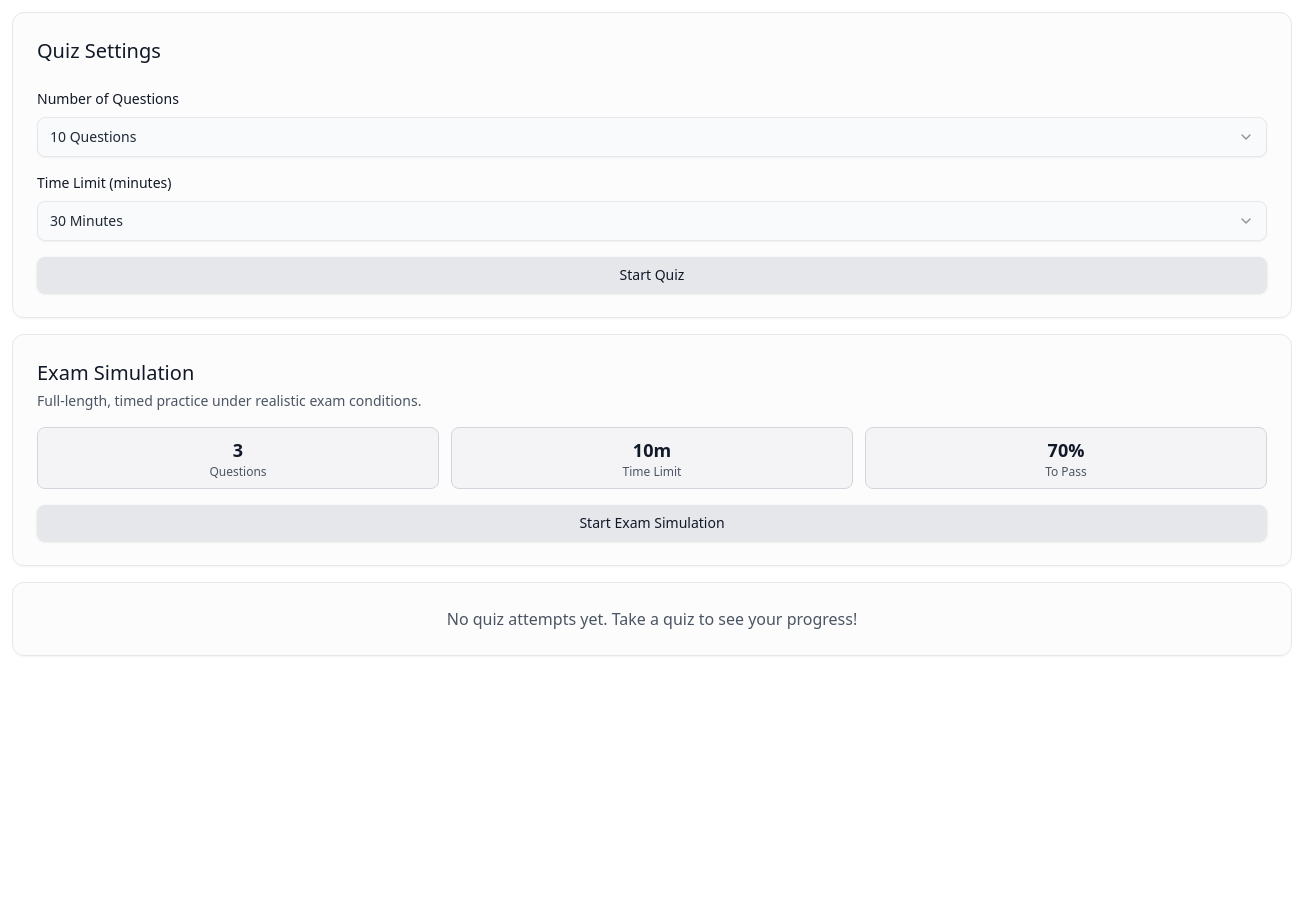
Test case: B8: remaining time is computed from a deadline › catches up on return to the tab after 5 minutes with no ticks
The image size is (1304, 912).
Click the button "Start Quiz" at (652, 275), box [37,257,1267,293]
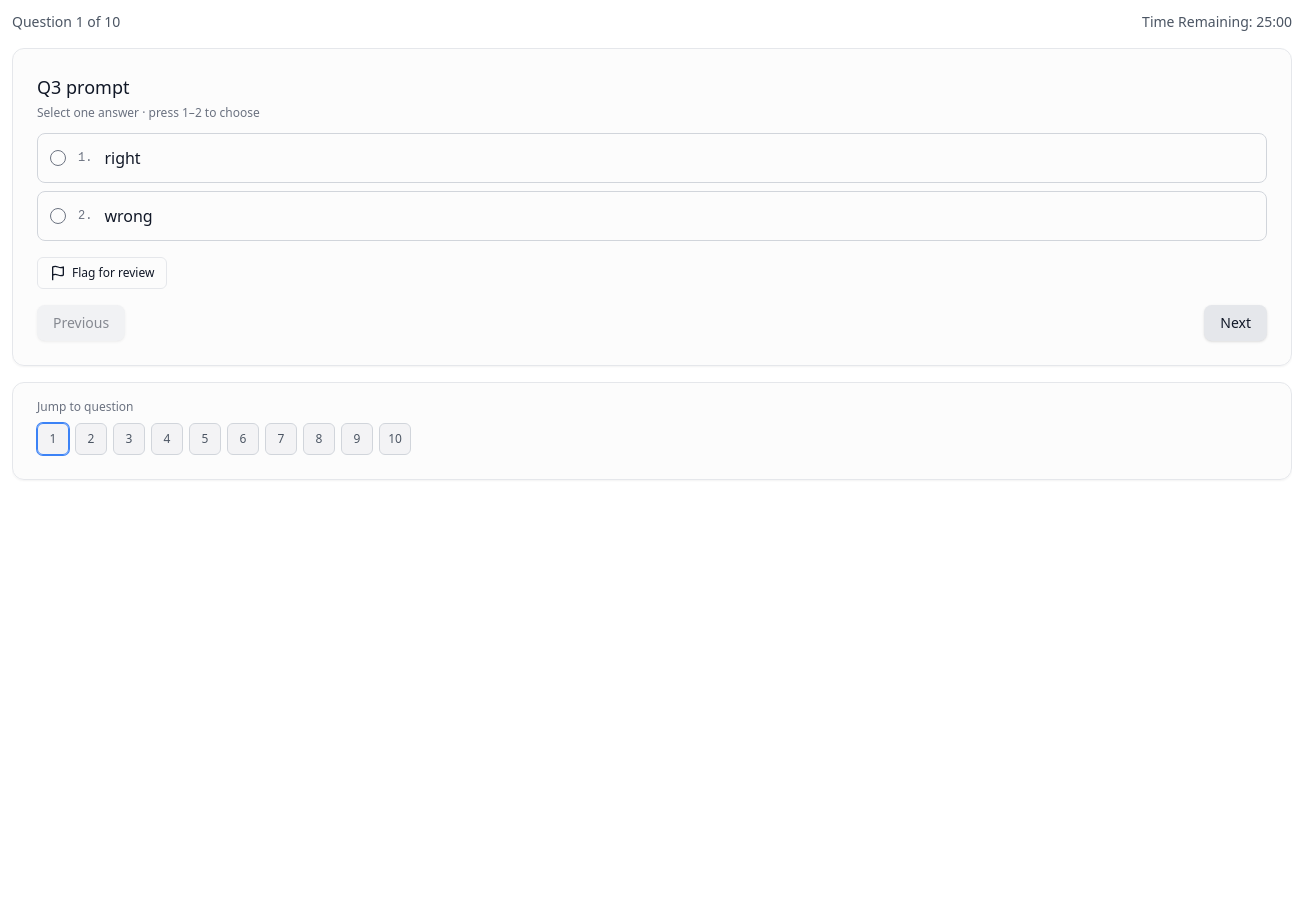
Expected: the text "Time Remaining: 25:00" is shown, [1142,12,1292,32]
